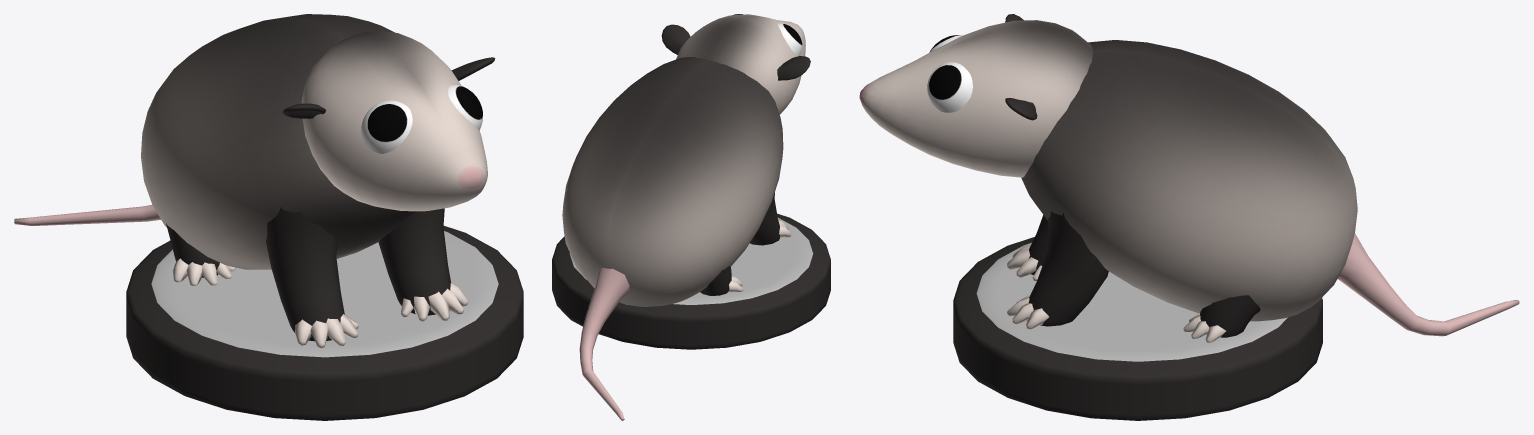
The model's file is Opossum.fbx.
3 renders of one model, left to right at view 1: azimuth 30°, elevation 25°; view 2: azimuth 150°, elevation 25°; view 3: azimuth 270°, elevation 25°, orthographic. The views are drawn at different scales.
Visible parts, largest first — view 1: Opossum, Tail; view 2: Opossum, Tail; view 3: Opossum, Tail.
Boxes of the visible parts, left/top/right/bottom form: Opossum: left=126, top=14, right=523, bottom=420; Tail: left=14, top=205, right=160, bottom=225; Opossum: left=552, top=14, right=830, bottom=349; Tail: left=579, top=267, right=629, bottom=420; Opossum: left=859, top=14, right=1357, bottom=420; Tail: left=1337, top=233, right=1519, bottom=336.
Bounding box in the file's own units: 89.07 × 86.52 × 159.
